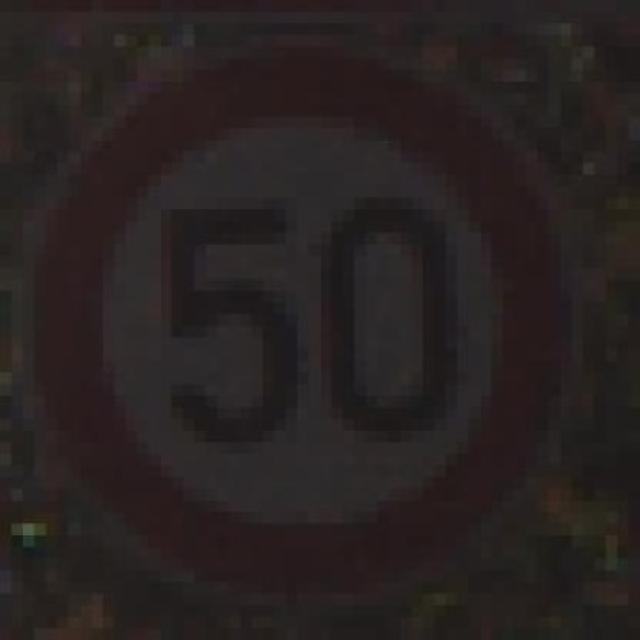forb_speed_over_50: (38, 51, 567, 594)
